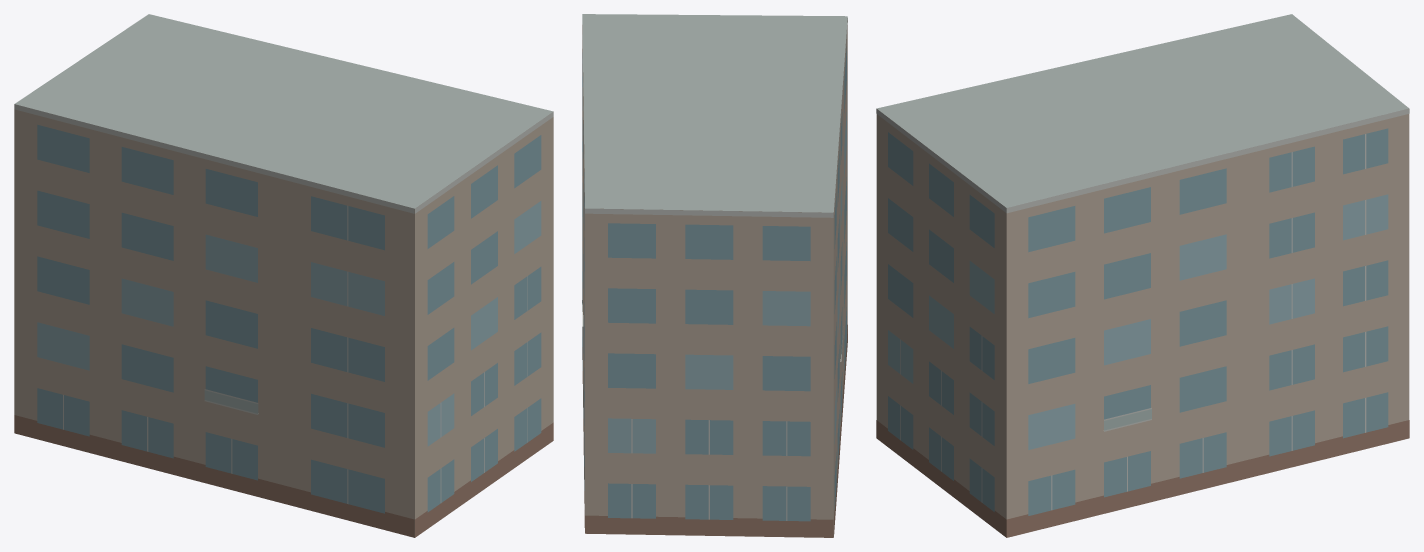
Rendered from residential-c0a5eb86-cadb-46cd-86ac-85a93e4cf72b.glb.
3 views of the same model, side by side, from view 1: azimuth 30°, elevation 25°; view 2: azimuth 150°, elevation 25°; view 3: azimuth 270°, elevation 25° (orthographic).
Parts seen in each view (by area): view 1: residential-c0a5eb86-cadb-46cd-86ac-85a93e4cf72b.tmp; view 2: residential-c0a5eb86-cadb-46cd-86ac-85a93e4cf72b.tmp; view 3: residential-c0a5eb86-cadb-46cd-86ac-85a93e4cf72b.tmp.
Part boxes in pixels (box(x1,y1,x2,y2)): residential-c0a5eb86-cadb-46cd-86ac-85a93e4cf72b.tmp: box(14, 14, 553, 537); residential-c0a5eb86-cadb-46cd-86ac-85a93e4cf72b.tmp: box(582, 14, 847, 537); residential-c0a5eb86-cadb-46cd-86ac-85a93e4cf72b.tmp: box(876, 14, 1409, 537).
Bounding box in the file's own units: 19.25 × 15.25 × 22.34.
